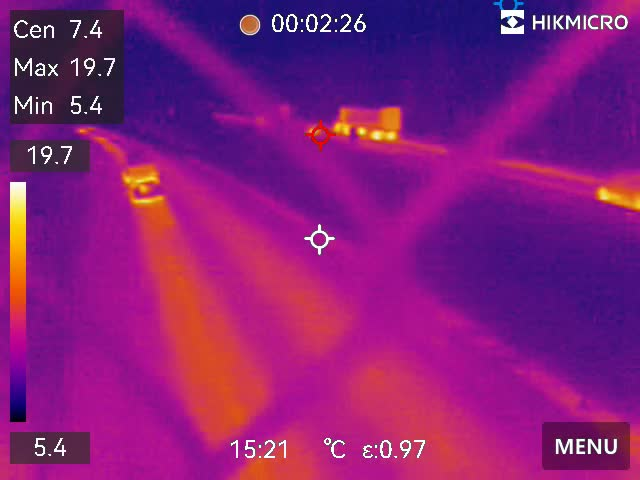heavyTruck: (328, 97, 402, 144)
